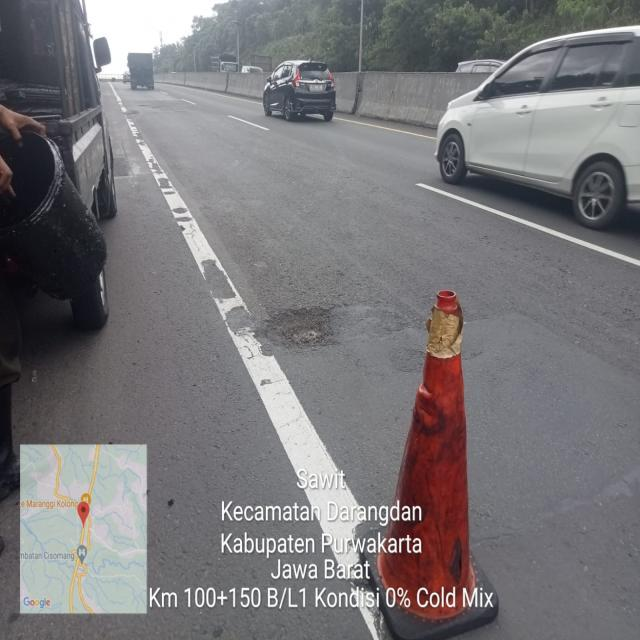Buraco: (246, 304, 343, 358)
